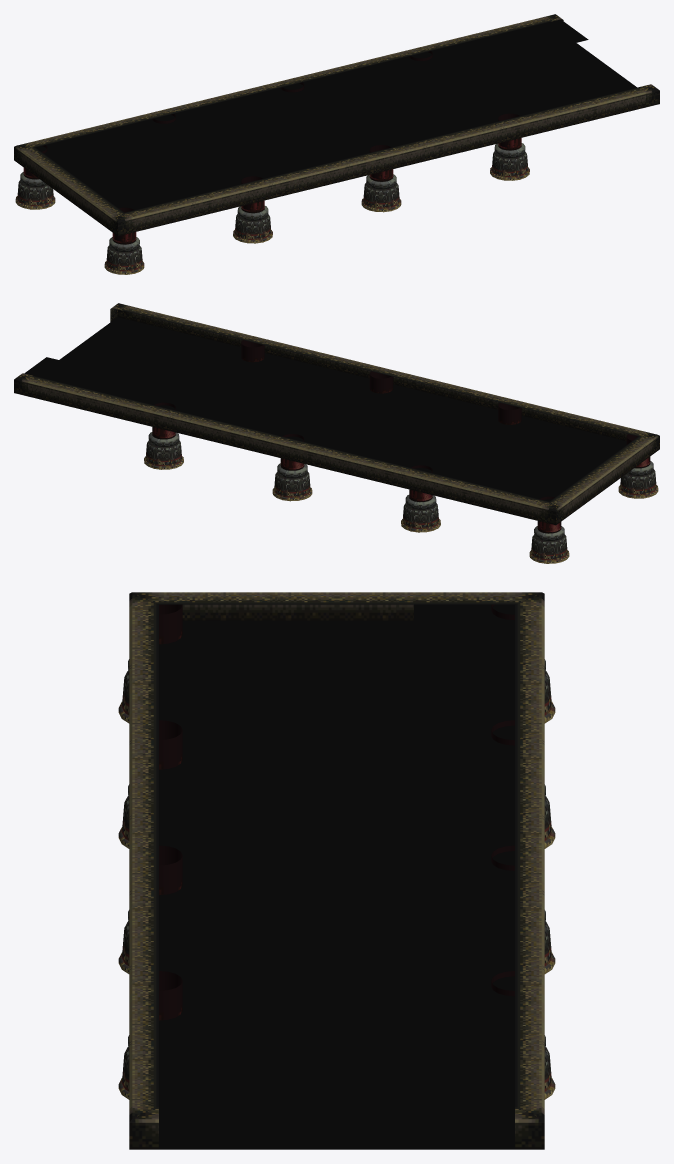
File: EnvBdgMD_Desert_A_TreasureRoom_Outdoor_Base.FBX
3 renders of one model, top to bottom at view 1: azimuth 30°, elevation 25°; view 2: azimuth 150°, elevation 25°; view 3: azimuth 270°, elevation 25°, orthographic. The views are drawn at different scales.
Parts seen in each view (by area): view 1: EnvBdgMD_Desert_A_TreasureRoom_Outdoor_Base; view 2: EnvBdgMD_Desert_A_TreasureRoom_Outdoor_Base; view 3: EnvBdgMD_Desert_A_TreasureRoom_Outdoor_Base.
Part boxes in pixels (left/top/right/bottom): EnvBdgMD_Desert_A_TreasureRoom_Outdoor_Base: left=14, top=14, right=659, bottom=274; EnvBdgMD_Desert_A_TreasureRoom_Outdoor_Base: left=14, top=303, right=659, bottom=563; EnvBdgMD_Desert_A_TreasureRoom_Outdoor_Base: left=118, top=592, right=555, bottom=1149.
Bounding box in the file's own units: 2123 × 200 × 736.
